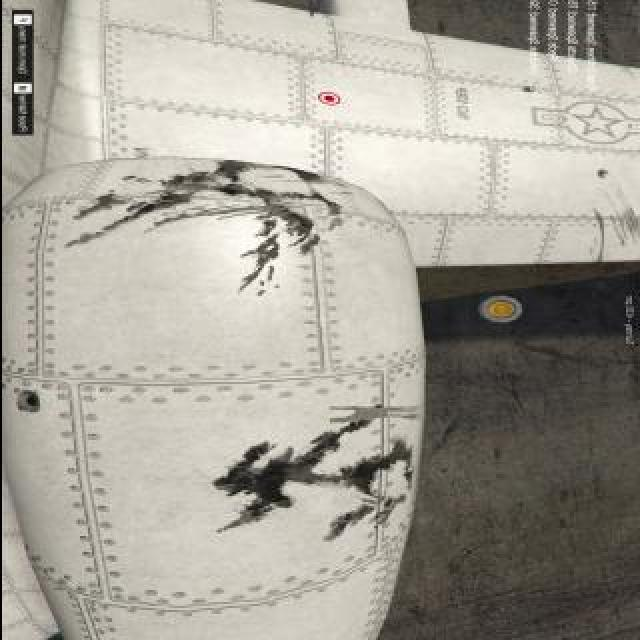crack: (13, 390, 41, 414), (519, 86, 533, 94), (598, 171, 610, 179)
dent: (211, 423, 416, 529), (162, 160, 342, 241), (86, 190, 194, 243), (243, 235, 282, 288), (324, 506, 376, 541), (327, 406, 419, 422), (74, 192, 130, 218), (385, 493, 407, 523), (404, 467, 412, 489)
